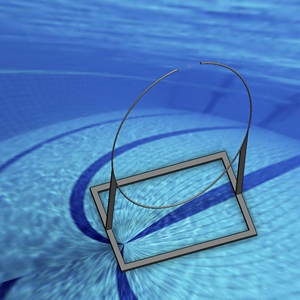circle: (88, 59, 262, 271)
